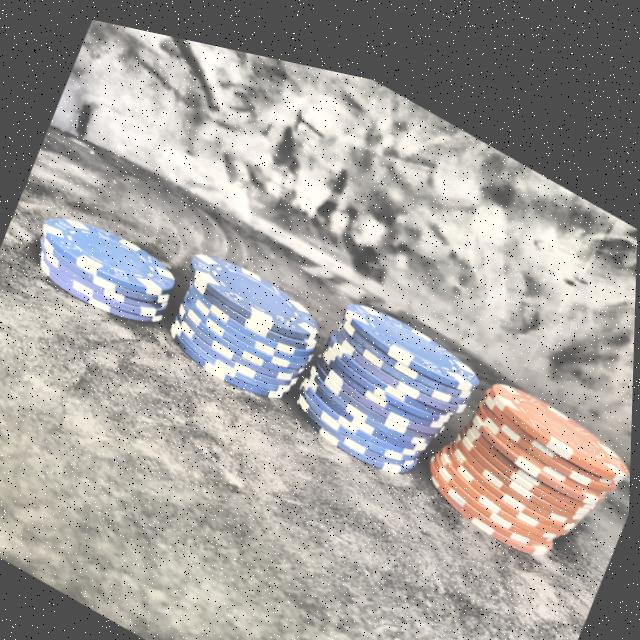Chip: (409, 308, 635, 576), (285, 245, 500, 513), (158, 211, 334, 419), (26, 181, 202, 355)
